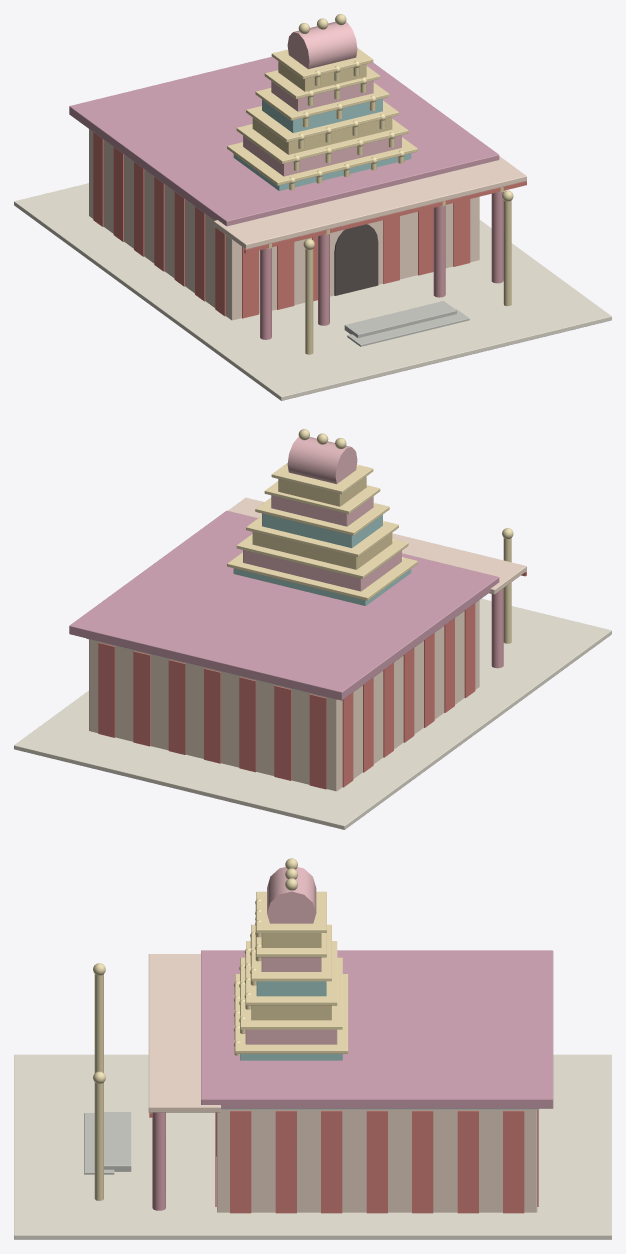
The model's file is LM_ENV_HinduTemple.glb.
The picture shows the model from 3 angles, top to bottom: view 1: azimuth 30°, elevation 25°; view 2: azimuth 150°, elevation 25°; view 3: azimuth 270°, elevation 25°; orthographic projection. The views are drawn at different scales.
Parts seen in each view (by area): view 1: HinduTemple | Plaza stone, HinduTemple | Temple maroon, HinduTemple | Temple sandstone, HinduTemple | Temple red, HinduTemple | Gopuram figure, HinduTemple | Gopuram rose, HinduTemple | Pillar rose, HinduTemple | Grey stone, HinduTemple | Doorway dark, HinduTemple | Gopuram ochre, HinduTemple | Gold trim, HinduTemple | Gopuram teal; view 2: HinduTemple | Temple maroon, HinduTemple | Plaza stone, HinduTemple | Temple sandstone, HinduTemple | Temple red, HinduTemple | Gopuram figure, HinduTemple | Gopuram rose, HinduTemple | Gopuram ochre, HinduTemple | Gopuram teal, HinduTemple | Gold trim, HinduTemple | Pillar rose; view 3: HinduTemple | Plaza stone, HinduTemple | Temple maroon, HinduTemple | Temple sandstone, HinduTemple | Temple red, HinduTemple | Gopuram figure, HinduTemple | Gopuram rose, HinduTemple | Gold trim, HinduTemple | Grey stone, HinduTemple | Gopuram ochre, HinduTemple | Gopuram teal, HinduTemple | Pillar rose, HinduTemple | Stripe white.
Boxes of the visible parts, box(x1,y1,x2,y2) form: HinduTemple | Plaza stone: box(14, 183, 611, 400); HinduTemple | Temple maroon: box(69, 56, 499, 226); HinduTemple | Temple sandstone: box(89, 129, 526, 320); HinduTemple | Temple red: box(93, 132, 526, 318); HinduTemple | Gopuram figure: box(227, 48, 417, 190); HinduTemple | Gopuram rose: box(243, 21, 401, 176); HinduTemple | Pillar rose: box(260, 191, 503, 339); HinduTemple | Grey stone: box(344, 301, 469, 346); HinduTemple | Doorway dark: box(334, 224, 378, 295); HinduTemple | Gopuram ochre: box(252, 61, 392, 154); HinduTemple | Gold trim: box(266, 14, 513, 354); HinduTemple | Gopuram teal: box(233, 98, 411, 190); HinduTemple | Temple maroon: box(69, 510, 499, 700); HinduTemple | Plaza stone: box(14, 598, 611, 829); HinduTemple | Temple sandstone: box(89, 497, 526, 791); HinduTemple | Temple red: box(98, 571, 526, 789); HinduTemple | Gopuram figure: box(227, 463, 417, 600); HinduTemple | Gopuram rose: box(243, 436, 401, 591); HinduTemple | Gopuram ochre: box(252, 476, 392, 569); HinduTemple | Gopuram teal: box(233, 513, 411, 605); HinduTemple | Gold trim: box(298, 429, 513, 643); HinduTemple | Pillar rose: box(491, 588, 503, 668); HinduTemple | Plaza stone: box(14, 1054, 611, 1239); HinduTemple | Temple maroon: box(201, 950, 553, 1108); HinduTemple | Temple sandstone: box(148, 954, 537, 1212); HinduTemple | Temple red: box(149, 1110, 538, 1213); HinduTemple | Gopuram figure: box(233, 891, 348, 1055); HinduTemple | Gopuram rose: box(245, 867, 337, 1044); HinduTemple | Gold trim: box(93, 858, 297, 1200); HinduTemple | Grey stone: box(84, 1112, 131, 1174); HinduTemple | Gopuram ochre: box(251, 933, 331, 1020); HinduTemple | Gopuram teal: box(240, 981, 342, 1060); HinduTemple | Pillar rose: box(152, 1112, 165, 1210); HinduTemple | Stripe white: box(221, 1108, 539, 1109).
Size of the model in its own units: 20 by 14.5 by 28.
